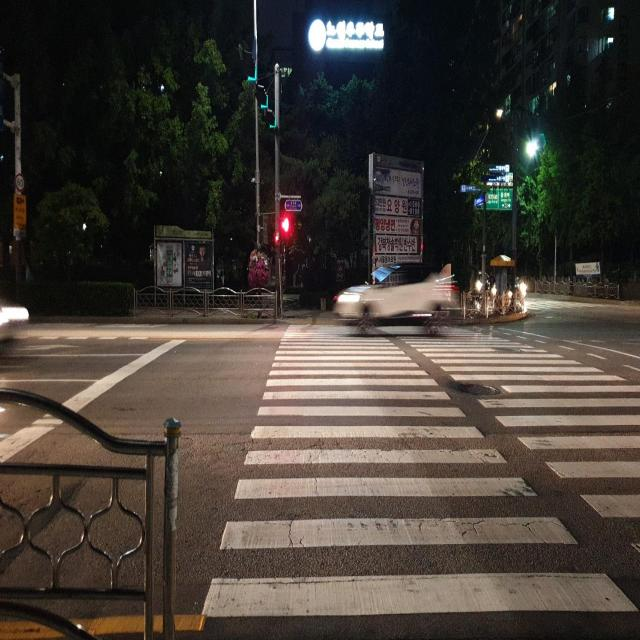빨간불: (280, 209, 291, 249)
횡단보도: (200, 323, 640, 621)
